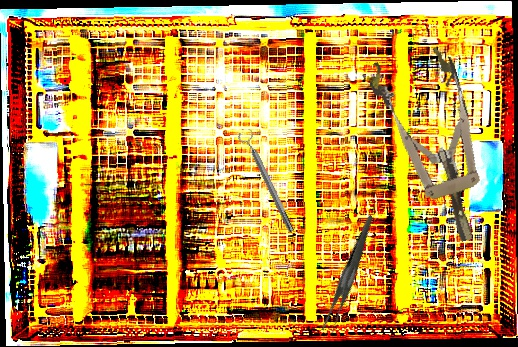Dressing Forceps: (293, 214, 407, 337)
Fixation Ring: (236, 127, 299, 236)
Speculum: (364, 40, 507, 254)
